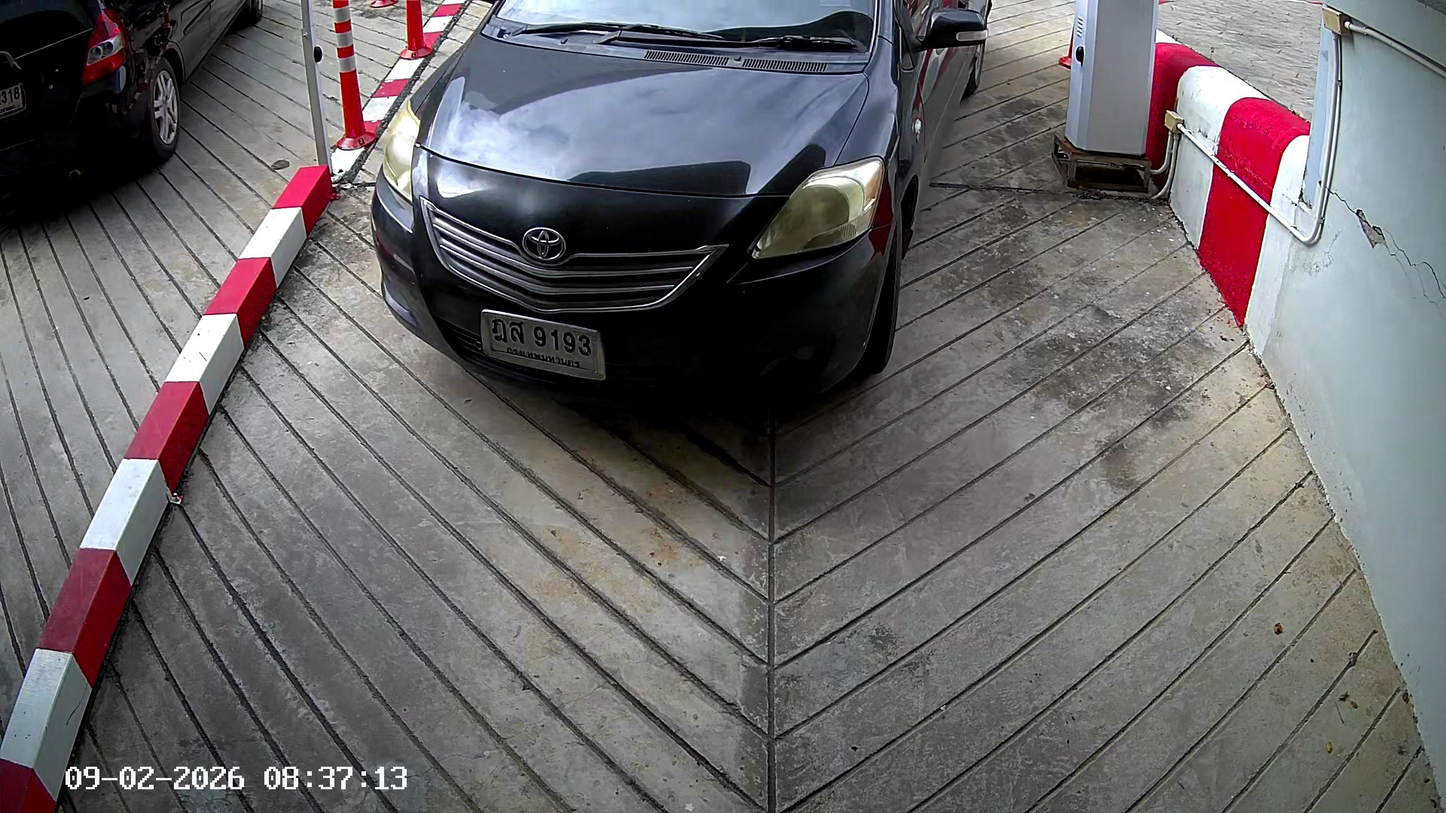car: (374, 3, 990, 410)
license-plate: (477, 302, 609, 388)
